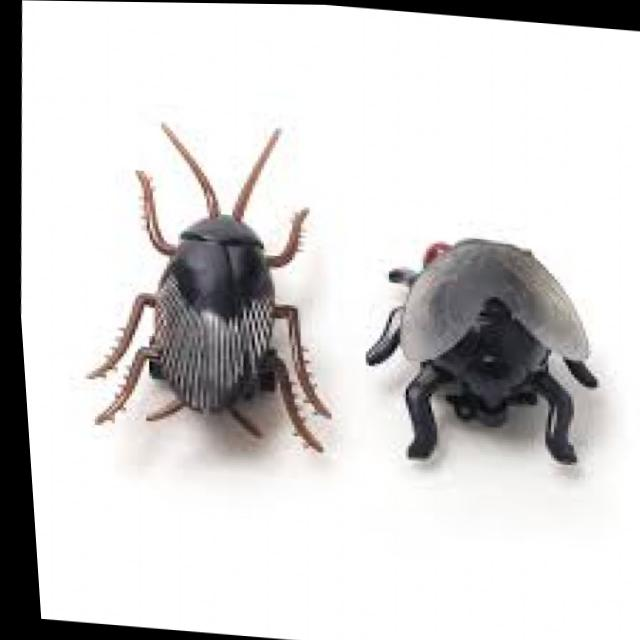Cockroach: (54, 97, 345, 479)
